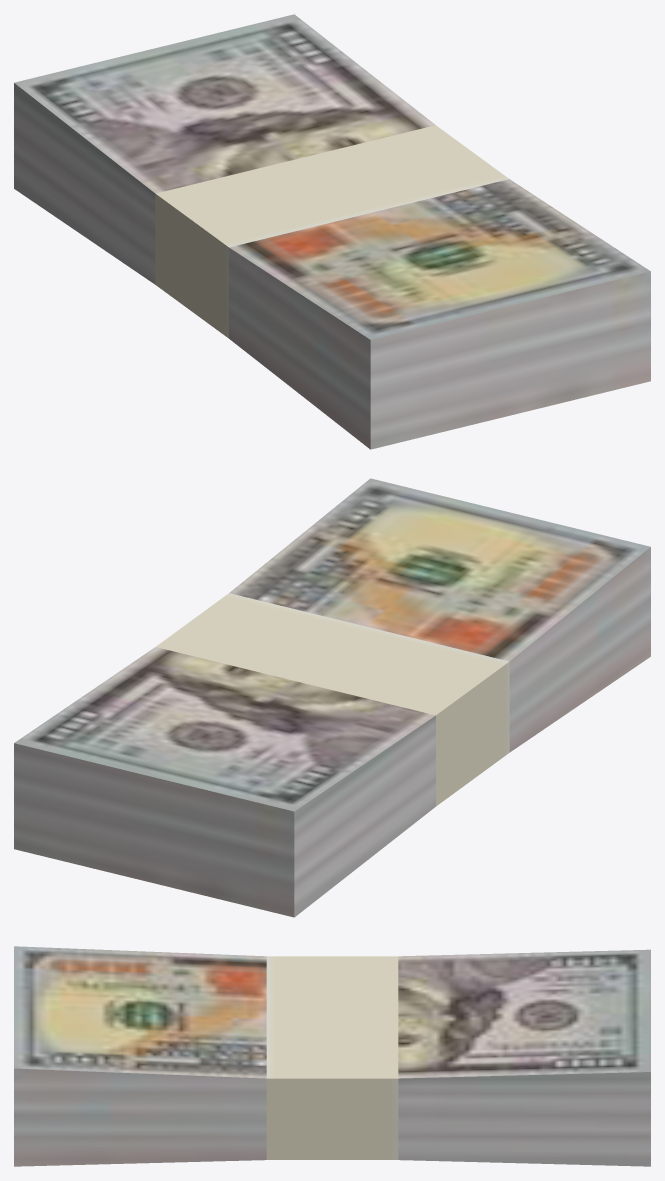
The model's file is Cash.fbx.
3 renders of one model, top to bottom at view 1: azimuth 30°, elevation 25°; view 2: azimuth 150°, elevation 25°; view 3: azimuth 270°, elevation 25°, orthographic. The views are drawn at different scales.
Visible parts, largest first — view 1: Cash; view 2: Cash; view 3: Cash.
Part boxes in pixels (x1,y1,x2,y2): Cash: (14, 14, 650, 449); Cash: (14, 478, 650, 917); Cash: (14, 946, 650, 1166).
Bounding box in the file's own units: 8.27 × 3.1 × 18.21.
1 material, 1 textured.
